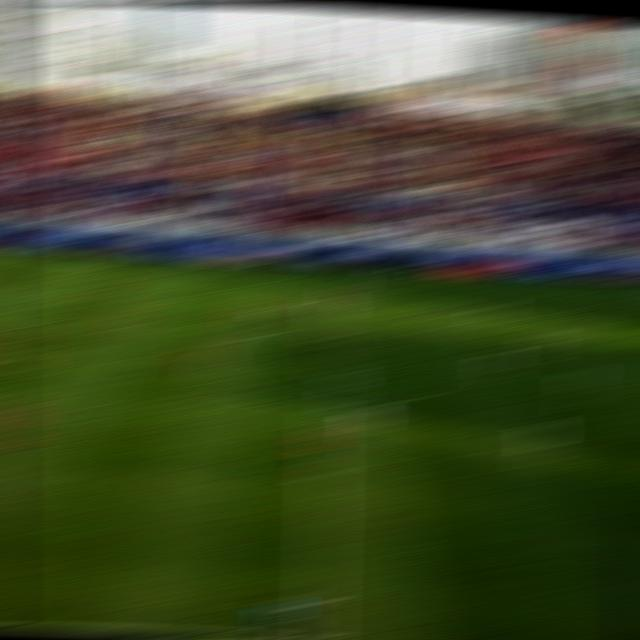halfcircle_bottom: (305, 394, 344, 415)
halfcircle_top: (308, 325, 346, 339)
midline_bottom_intersection: (296, 626, 340, 638)
midline_top_intersection: (308, 268, 343, 279)
